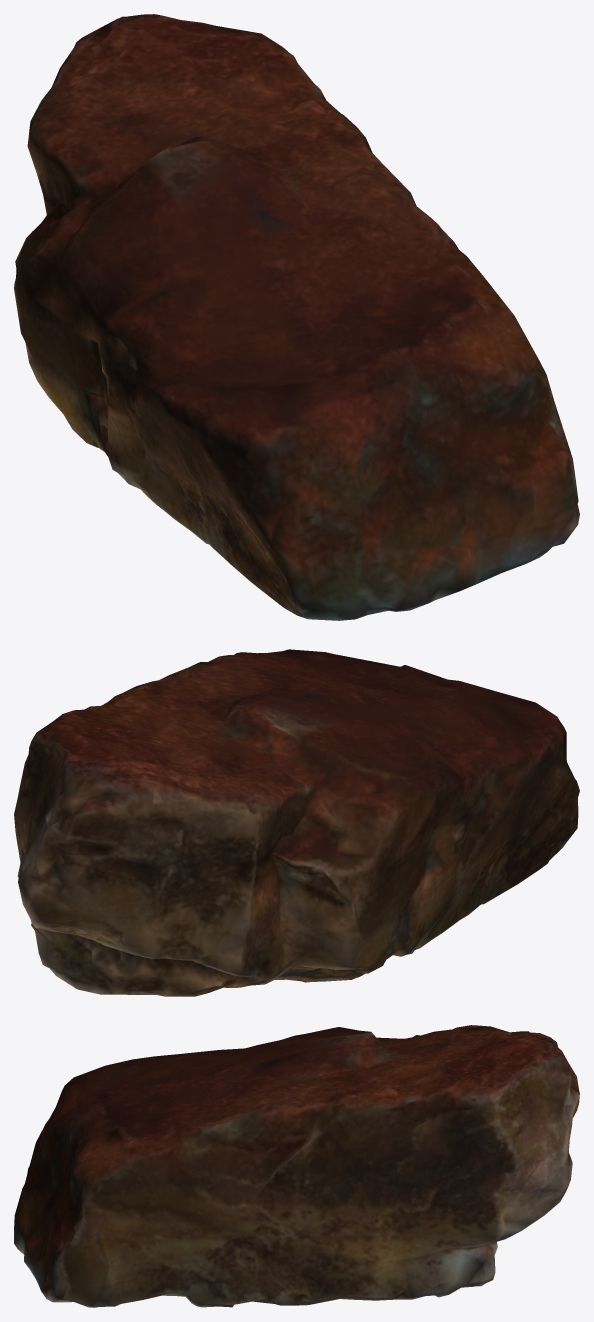
File: rock_07.glb
3 renders of one model, top to bottom at view 1: azimuth 30°, elevation 25°; view 2: azimuth 150°, elevation 25°; view 3: azimuth 270°, elevation 25°, orthographic. The views are drawn at different scales.
Parts seen in each view (by area): view 1: rock_07; view 2: rock_07; view 3: rock_07.
Part boxes in pixels (bbox=[...]): rock_07: bbox=[14, 14, 579, 620]; rock_07: bbox=[14, 649, 579, 996]; rock_07: bbox=[14, 1025, 579, 1307].
Bounding box in the file's own units: 0.1681 × 0.1437 × 0.3199.
Materials: 1 (1 with a texture image).
